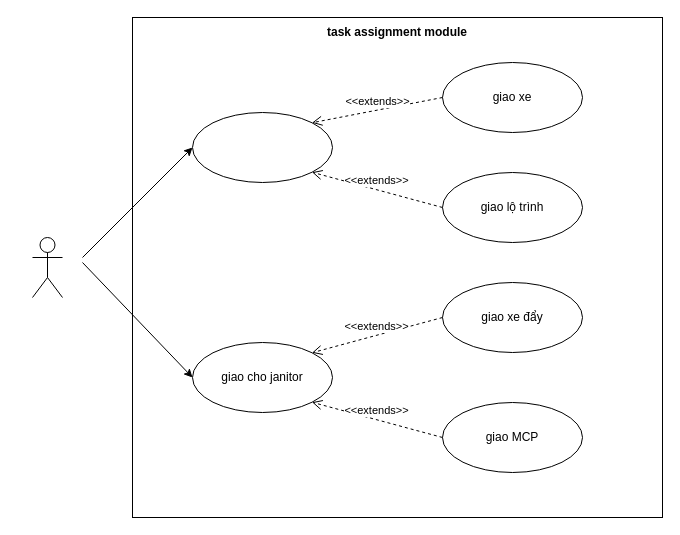
This 680x535 diagram has some shape labels left out. Each missing label, with the box of its shape:
back officer: (32, 236, 62, 298)
giao cho collector: (192, 112, 332, 182)
